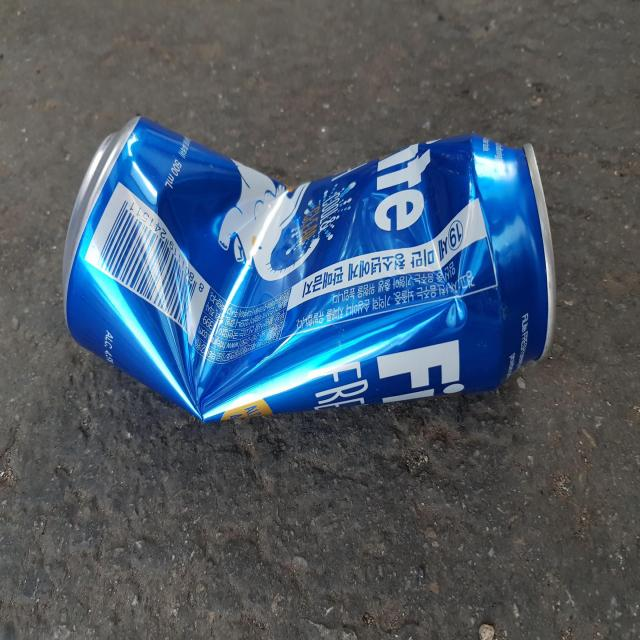can: (62, 117, 556, 421)
